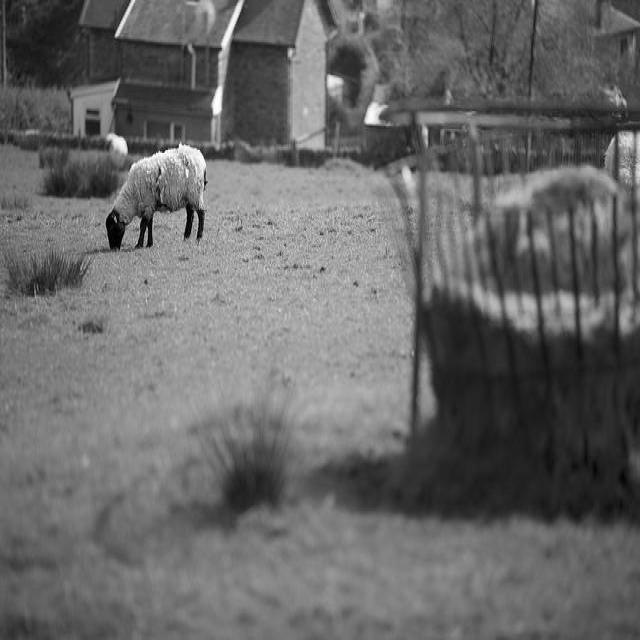Sheep: (107, 144, 209, 258)
